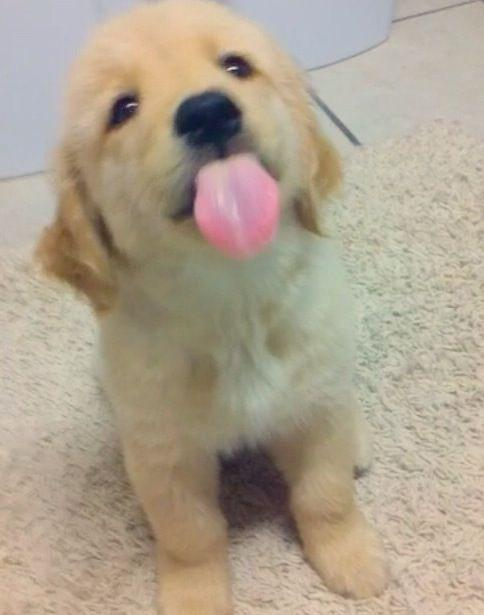puppy-dog: (32, 0, 391, 615)
